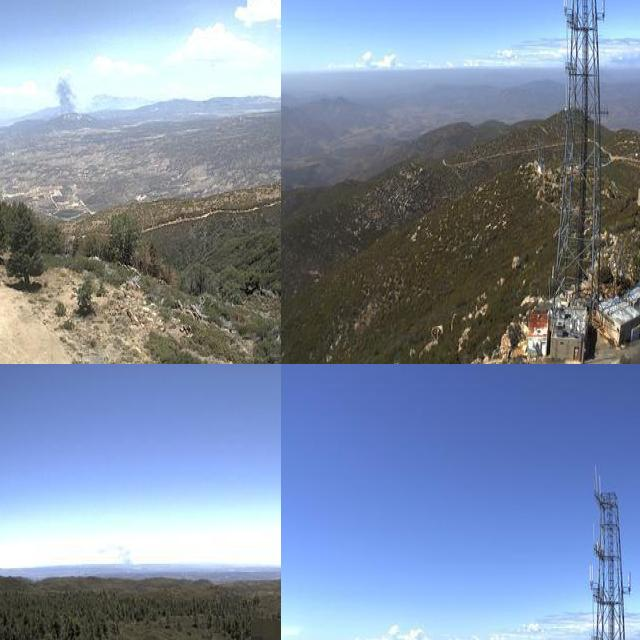smoke: (50, 70, 80, 118), (99, 542, 135, 570)
